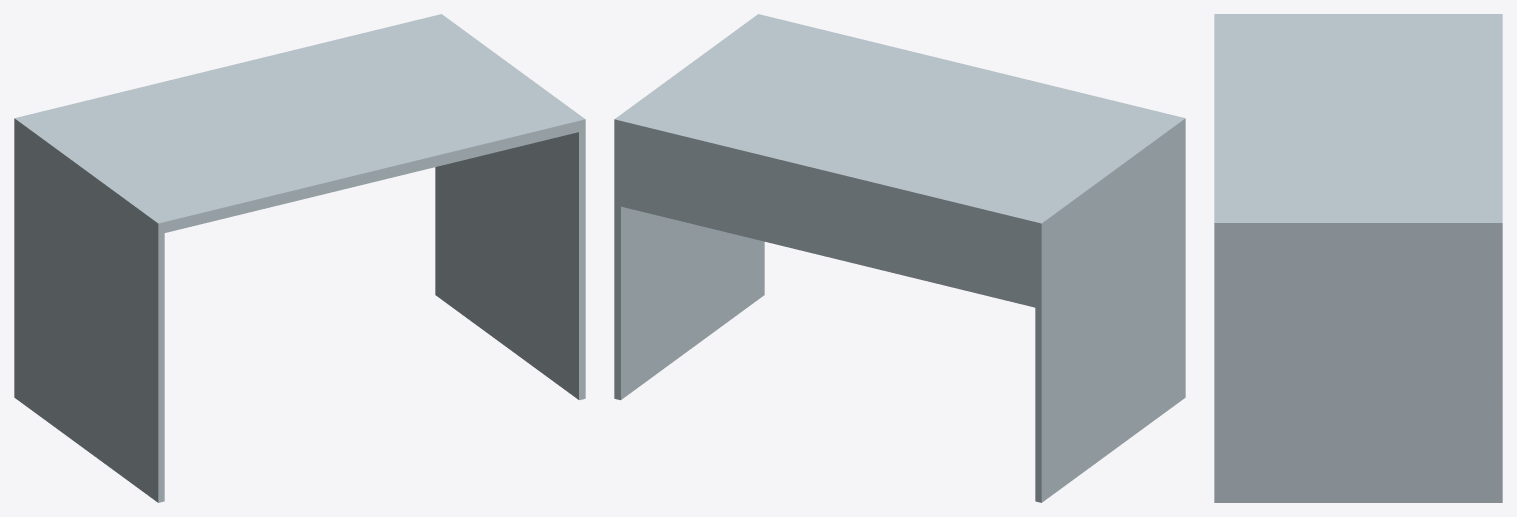
Rendered from assembly.glb.
The picture shows the model from 3 angles, left to right: view 1: azimuth 30°, elevation 25°; view 2: azimuth 150°, elevation 25°; view 3: azimuth 270°, elevation 25°; orthographic projection.
Visible parts, largest first — view 1: tapa, costado_izquierdo, costado_derecho; view 2: tapa, costado_izquierdo, arriostramiento_trasero, costado_derecho; view 3: costado_derecho, tapa.
Boxes of the visible parts, x1,y1,x2,y2 form: tapa: (14,14,585,234); costado_izquierdo: (14,129,164,502); costado_derecho: (435,130,585,400); tapa: (614,14,1185,234); costado_izquierdo: (1035,129,1185,502); arriostramiento_trasero: (621,132,1035,307); costado_derecho: (614,130,764,400); costado_derecho: (1214,234,1502,502); tapa: (1214,14,1502,233).
Size of the model in its own units: 1.2 by 0.75 by 0.7.
